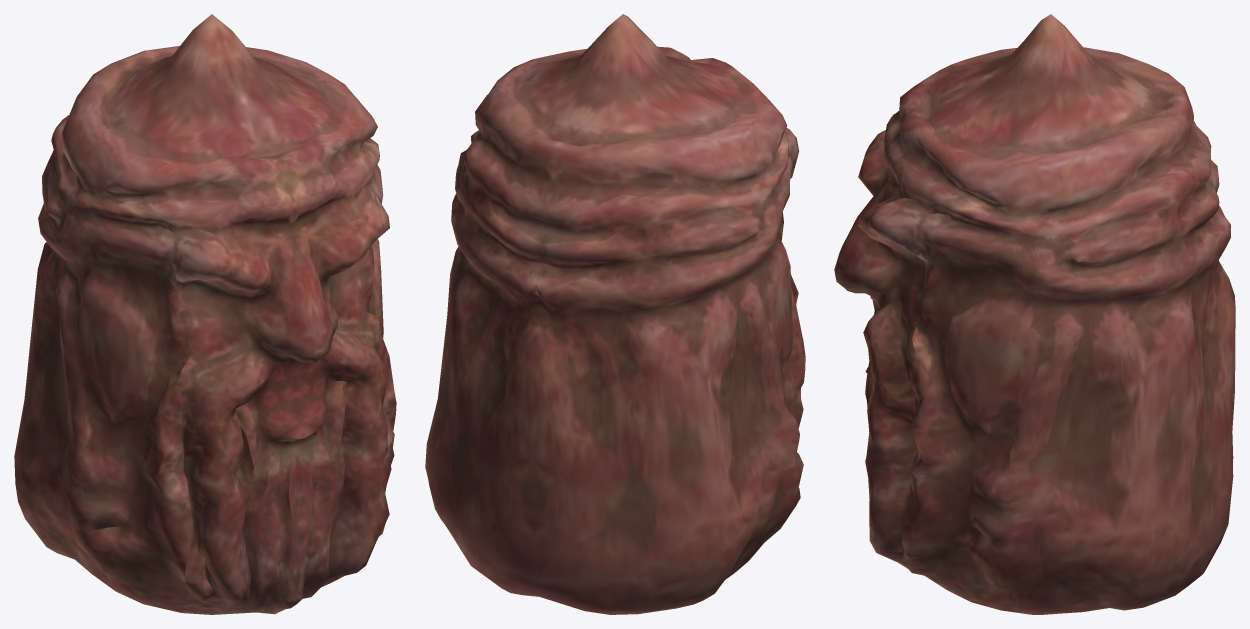
Rendered from Giant.fbx.
3 views of the same model, side by side, from view 1: azimuth 30°, elevation 25°; view 2: azimuth 150°, elevation 25°; view 3: azimuth 270°, elevation 25° (orthographic).
Visible parts, largest first — view 1: Giant; view 2: Giant; view 3: Giant.
Boxes of the visible parts, bbox=[...] form: Giant: bbox=[14, 14, 396, 614]; Giant: bbox=[425, 14, 805, 614]; Giant: bbox=[834, 14, 1235, 614].
Size of the model in its own units: 8.24 by 14.12 by 9.03.
Materials: 1 (1 with a texture image).
